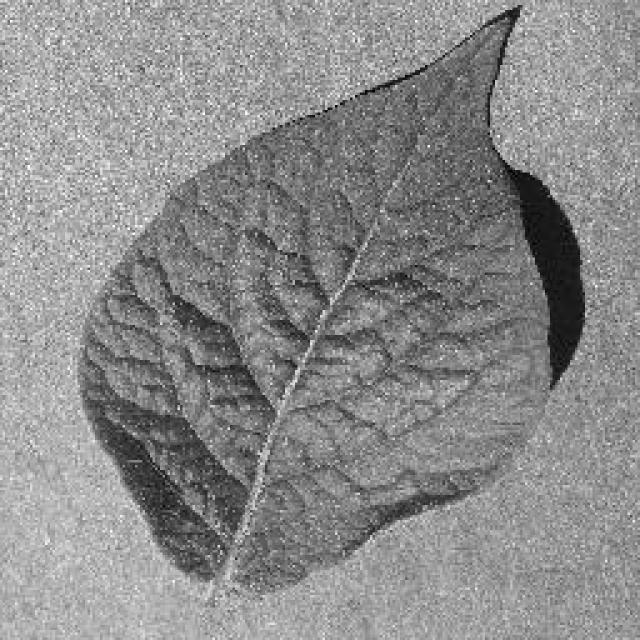Potato: (73, 2, 585, 600)
